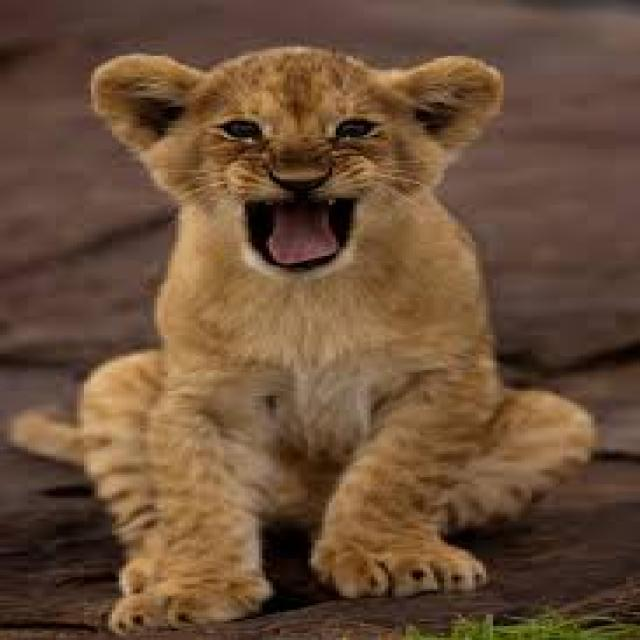Lion: (10, 46, 589, 627)
